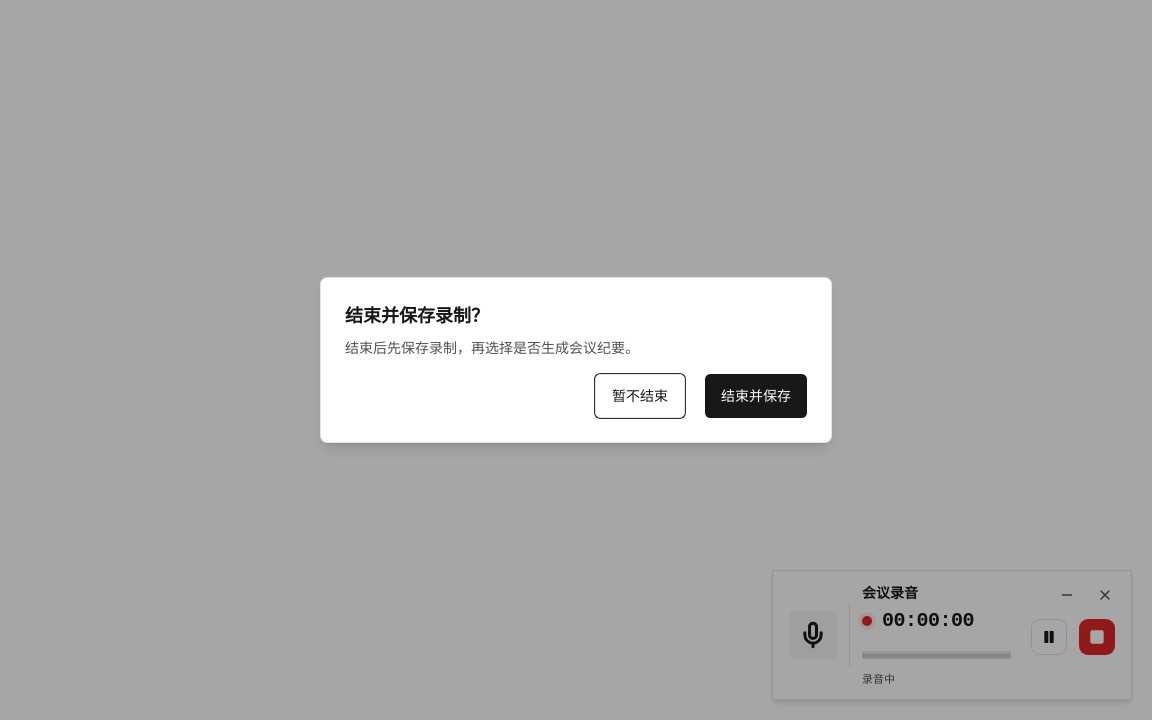
Test: MeetingRecorderDock › keeps recording unchanged when cancelling end-and-save confirmation
The image size is (1152, 720).
Expected: the dialog "结束并保存录制？" is shown, x1=320 y1=277 x2=832 y2=443
What coordinates should you click on to do the following:
click the button "暂不结束"
I would click on:
 (640, 396)
Its box is x1=595 y1=374 x2=685 y2=418.
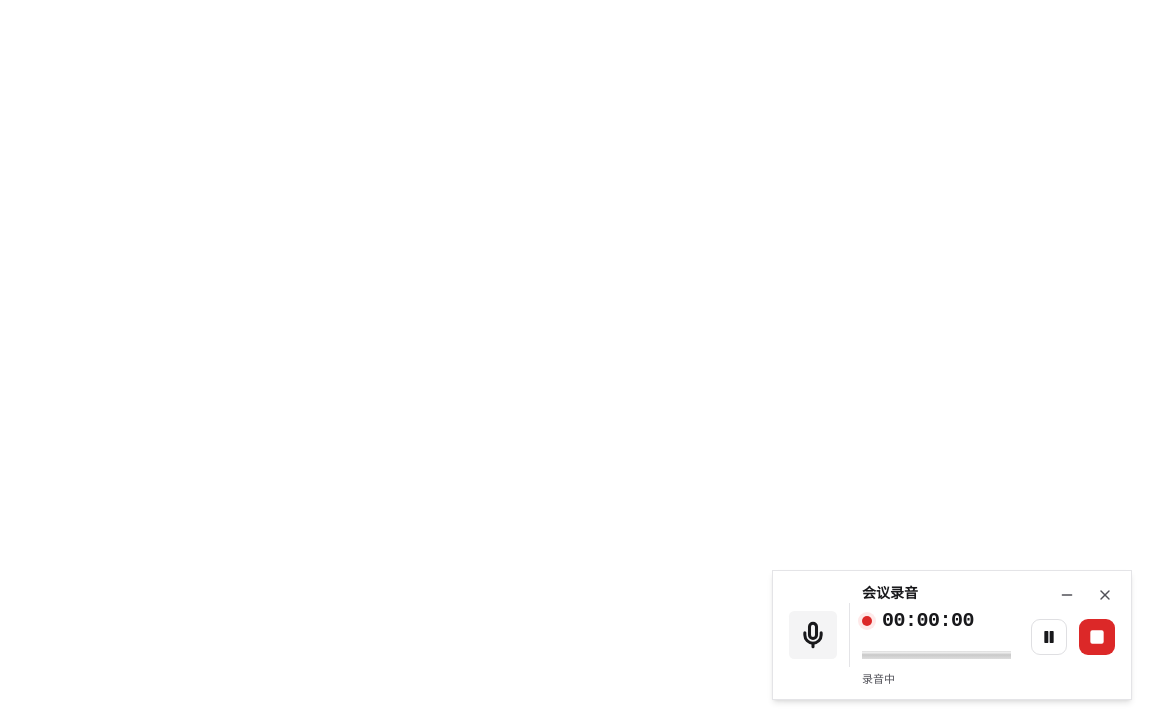
Result: the dialog is gone
